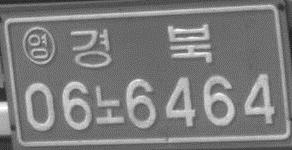0: (23, 81, 56, 133)
4: (243, 71, 278, 126), (164, 76, 198, 128)
6: (123, 77, 157, 130), (203, 75, 237, 127), (61, 80, 92, 131)
경북_D: (68, 21, 214, 70)
노: (93, 83, 125, 126)
영: (21, 24, 56, 66)
